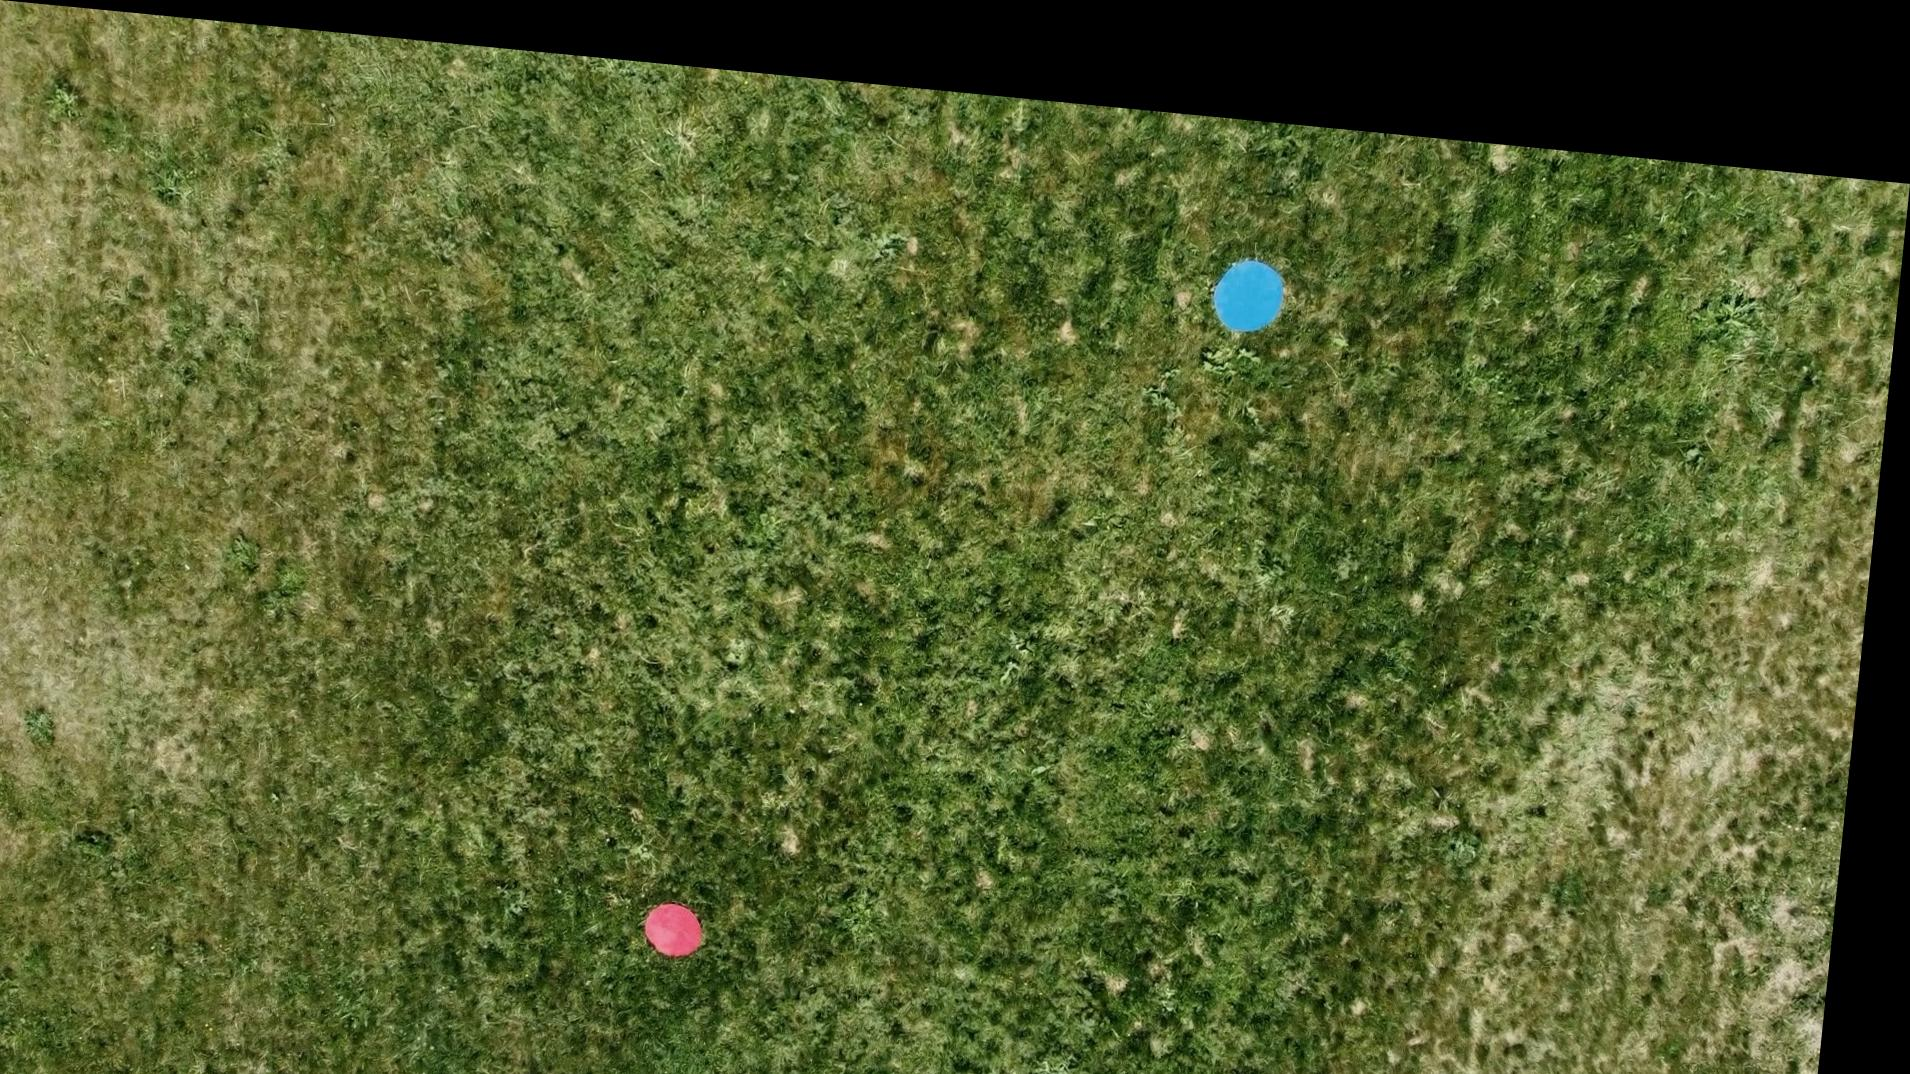Blue: (1209, 228, 1296, 312)
Red: (659, 883, 725, 947)
